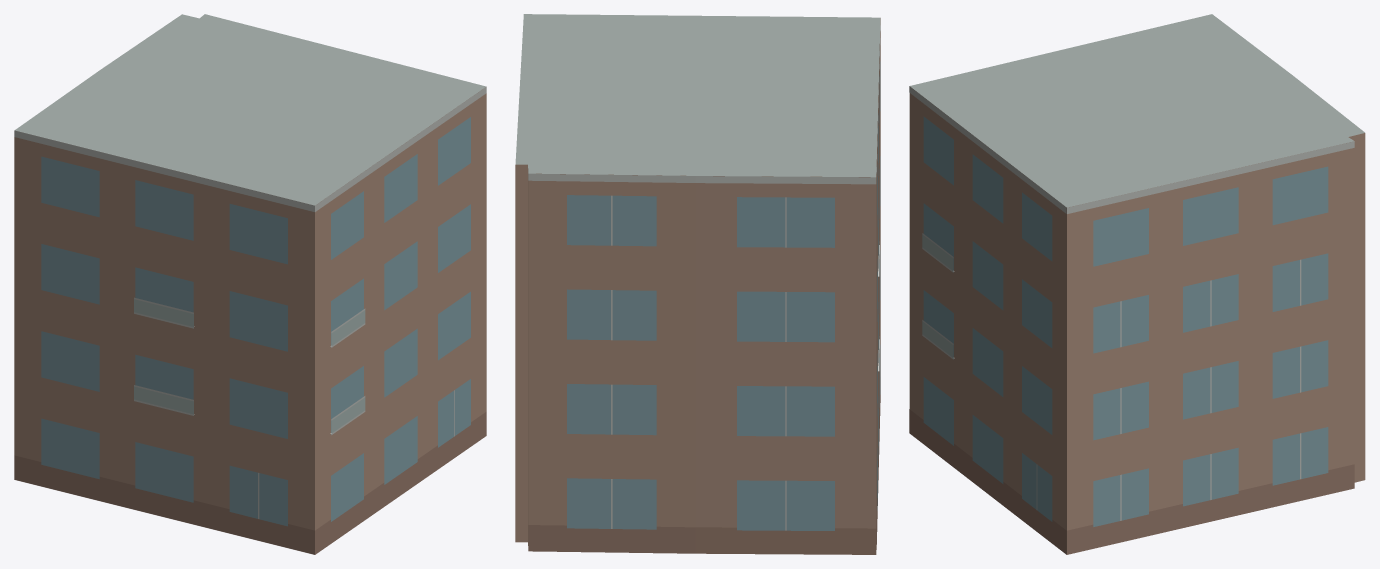
File: survey-upis-32724252.glb
The picture shows the model from 3 angles, left to right: view 1: azimuth 30°, elevation 25°; view 2: azimuth 150°, elevation 25°; view 3: azimuth 270°, elevation 25°; orthographic projection. The views are drawn at different scales.
Parts seen in each view (by area): view 1: survey-upis-32724252.tmp; view 2: survey-upis-32724252.tmp; view 3: survey-upis-32724252.tmp.
Boxes of the visible parts, x1=… form: survey-upis-32724252.tmp: x1=14, y1=14, x2=486, y2=554; survey-upis-32724252.tmp: x1=515, y1=14, x2=880, y2=554; survey-upis-32724252.tmp: x1=909, y1=14, x2=1365, y2=554.
Size of the model in its own units: 15.38 by 12.85 by 15.3.
